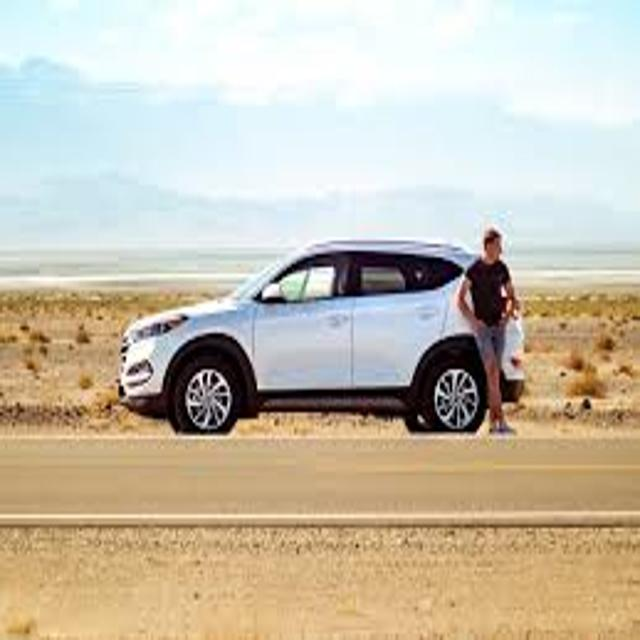car: (118, 240, 523, 431)
